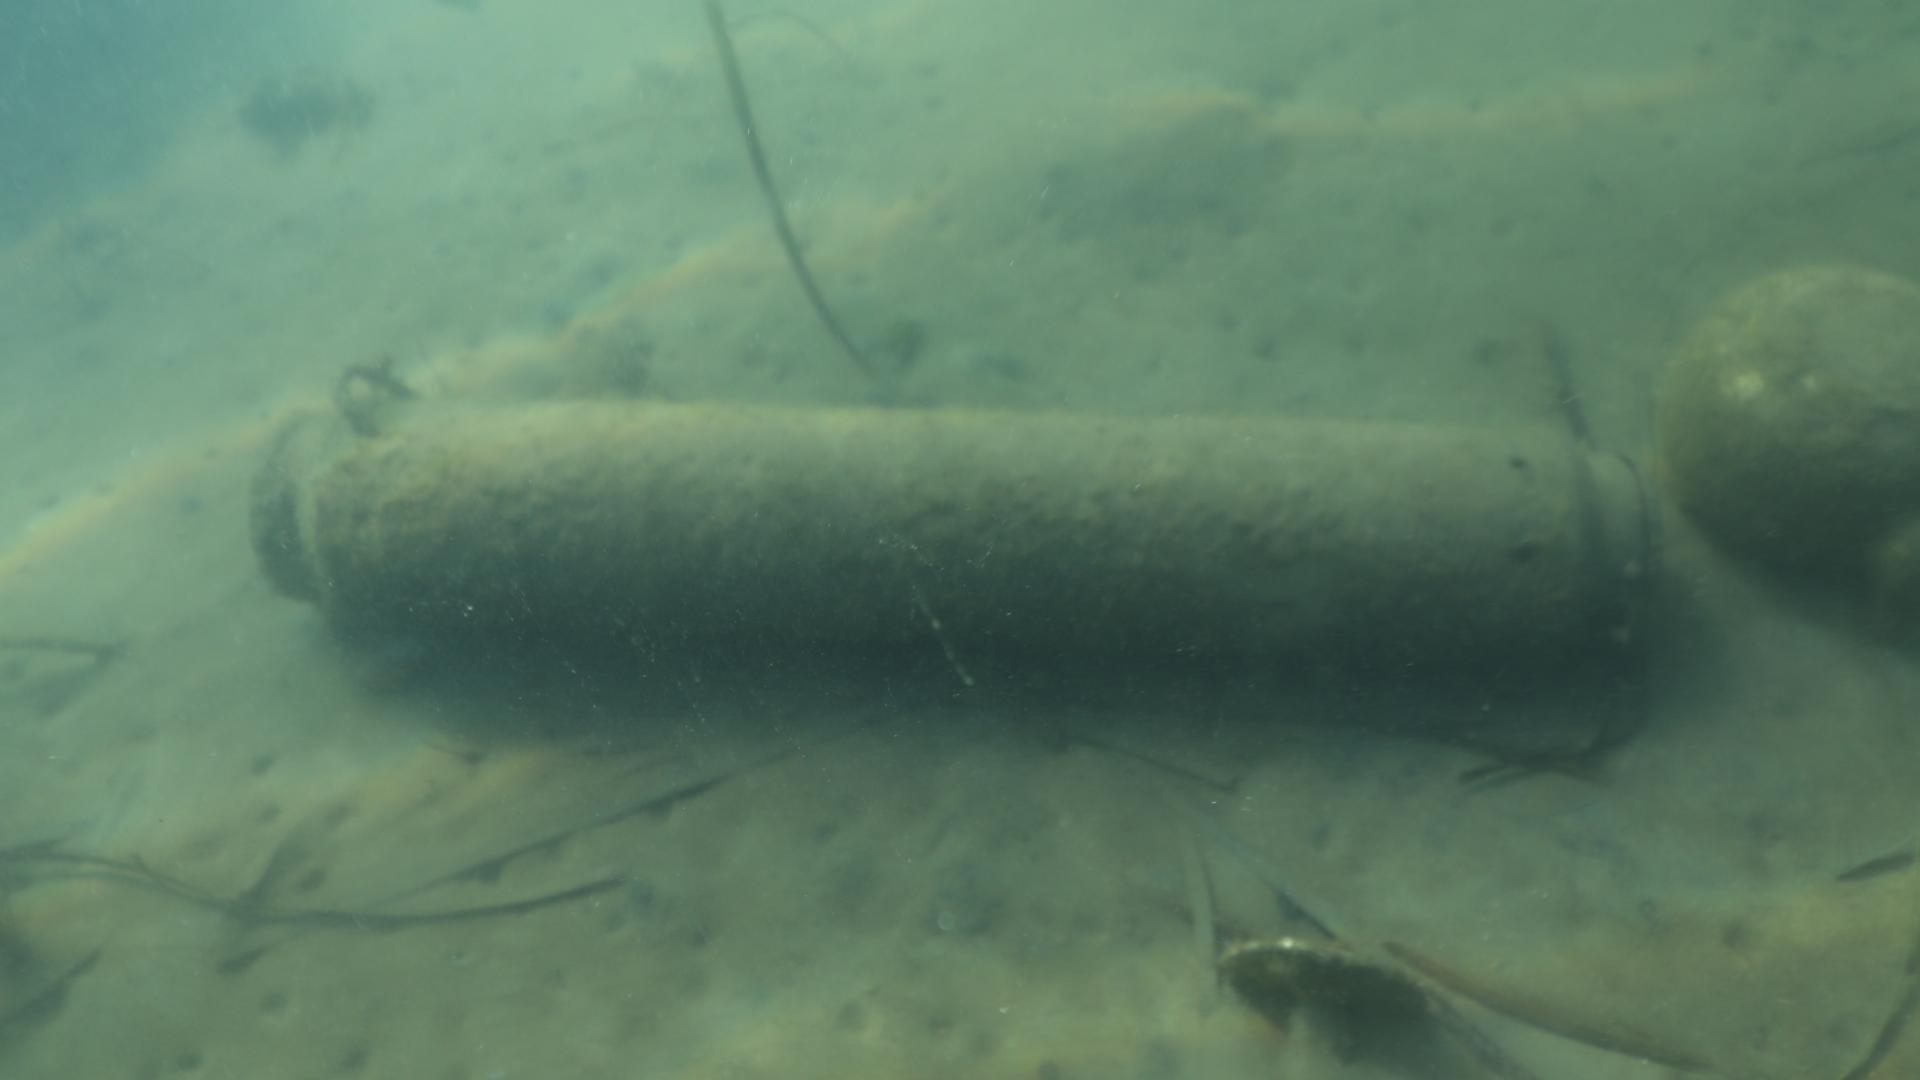eel fish trap: (247, 361, 1659, 671)
